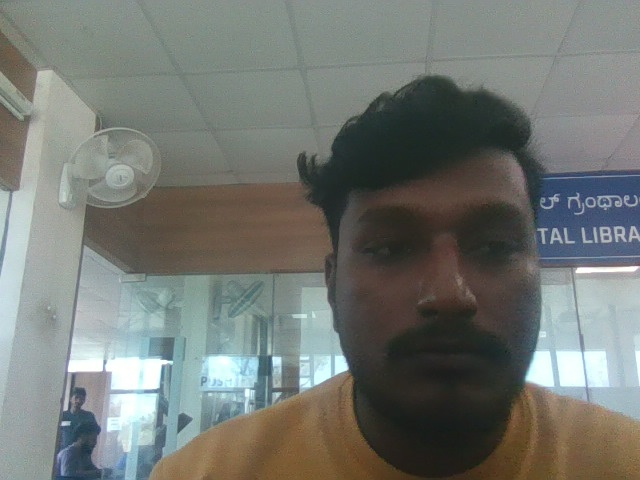real: (300, 53, 582, 452)
